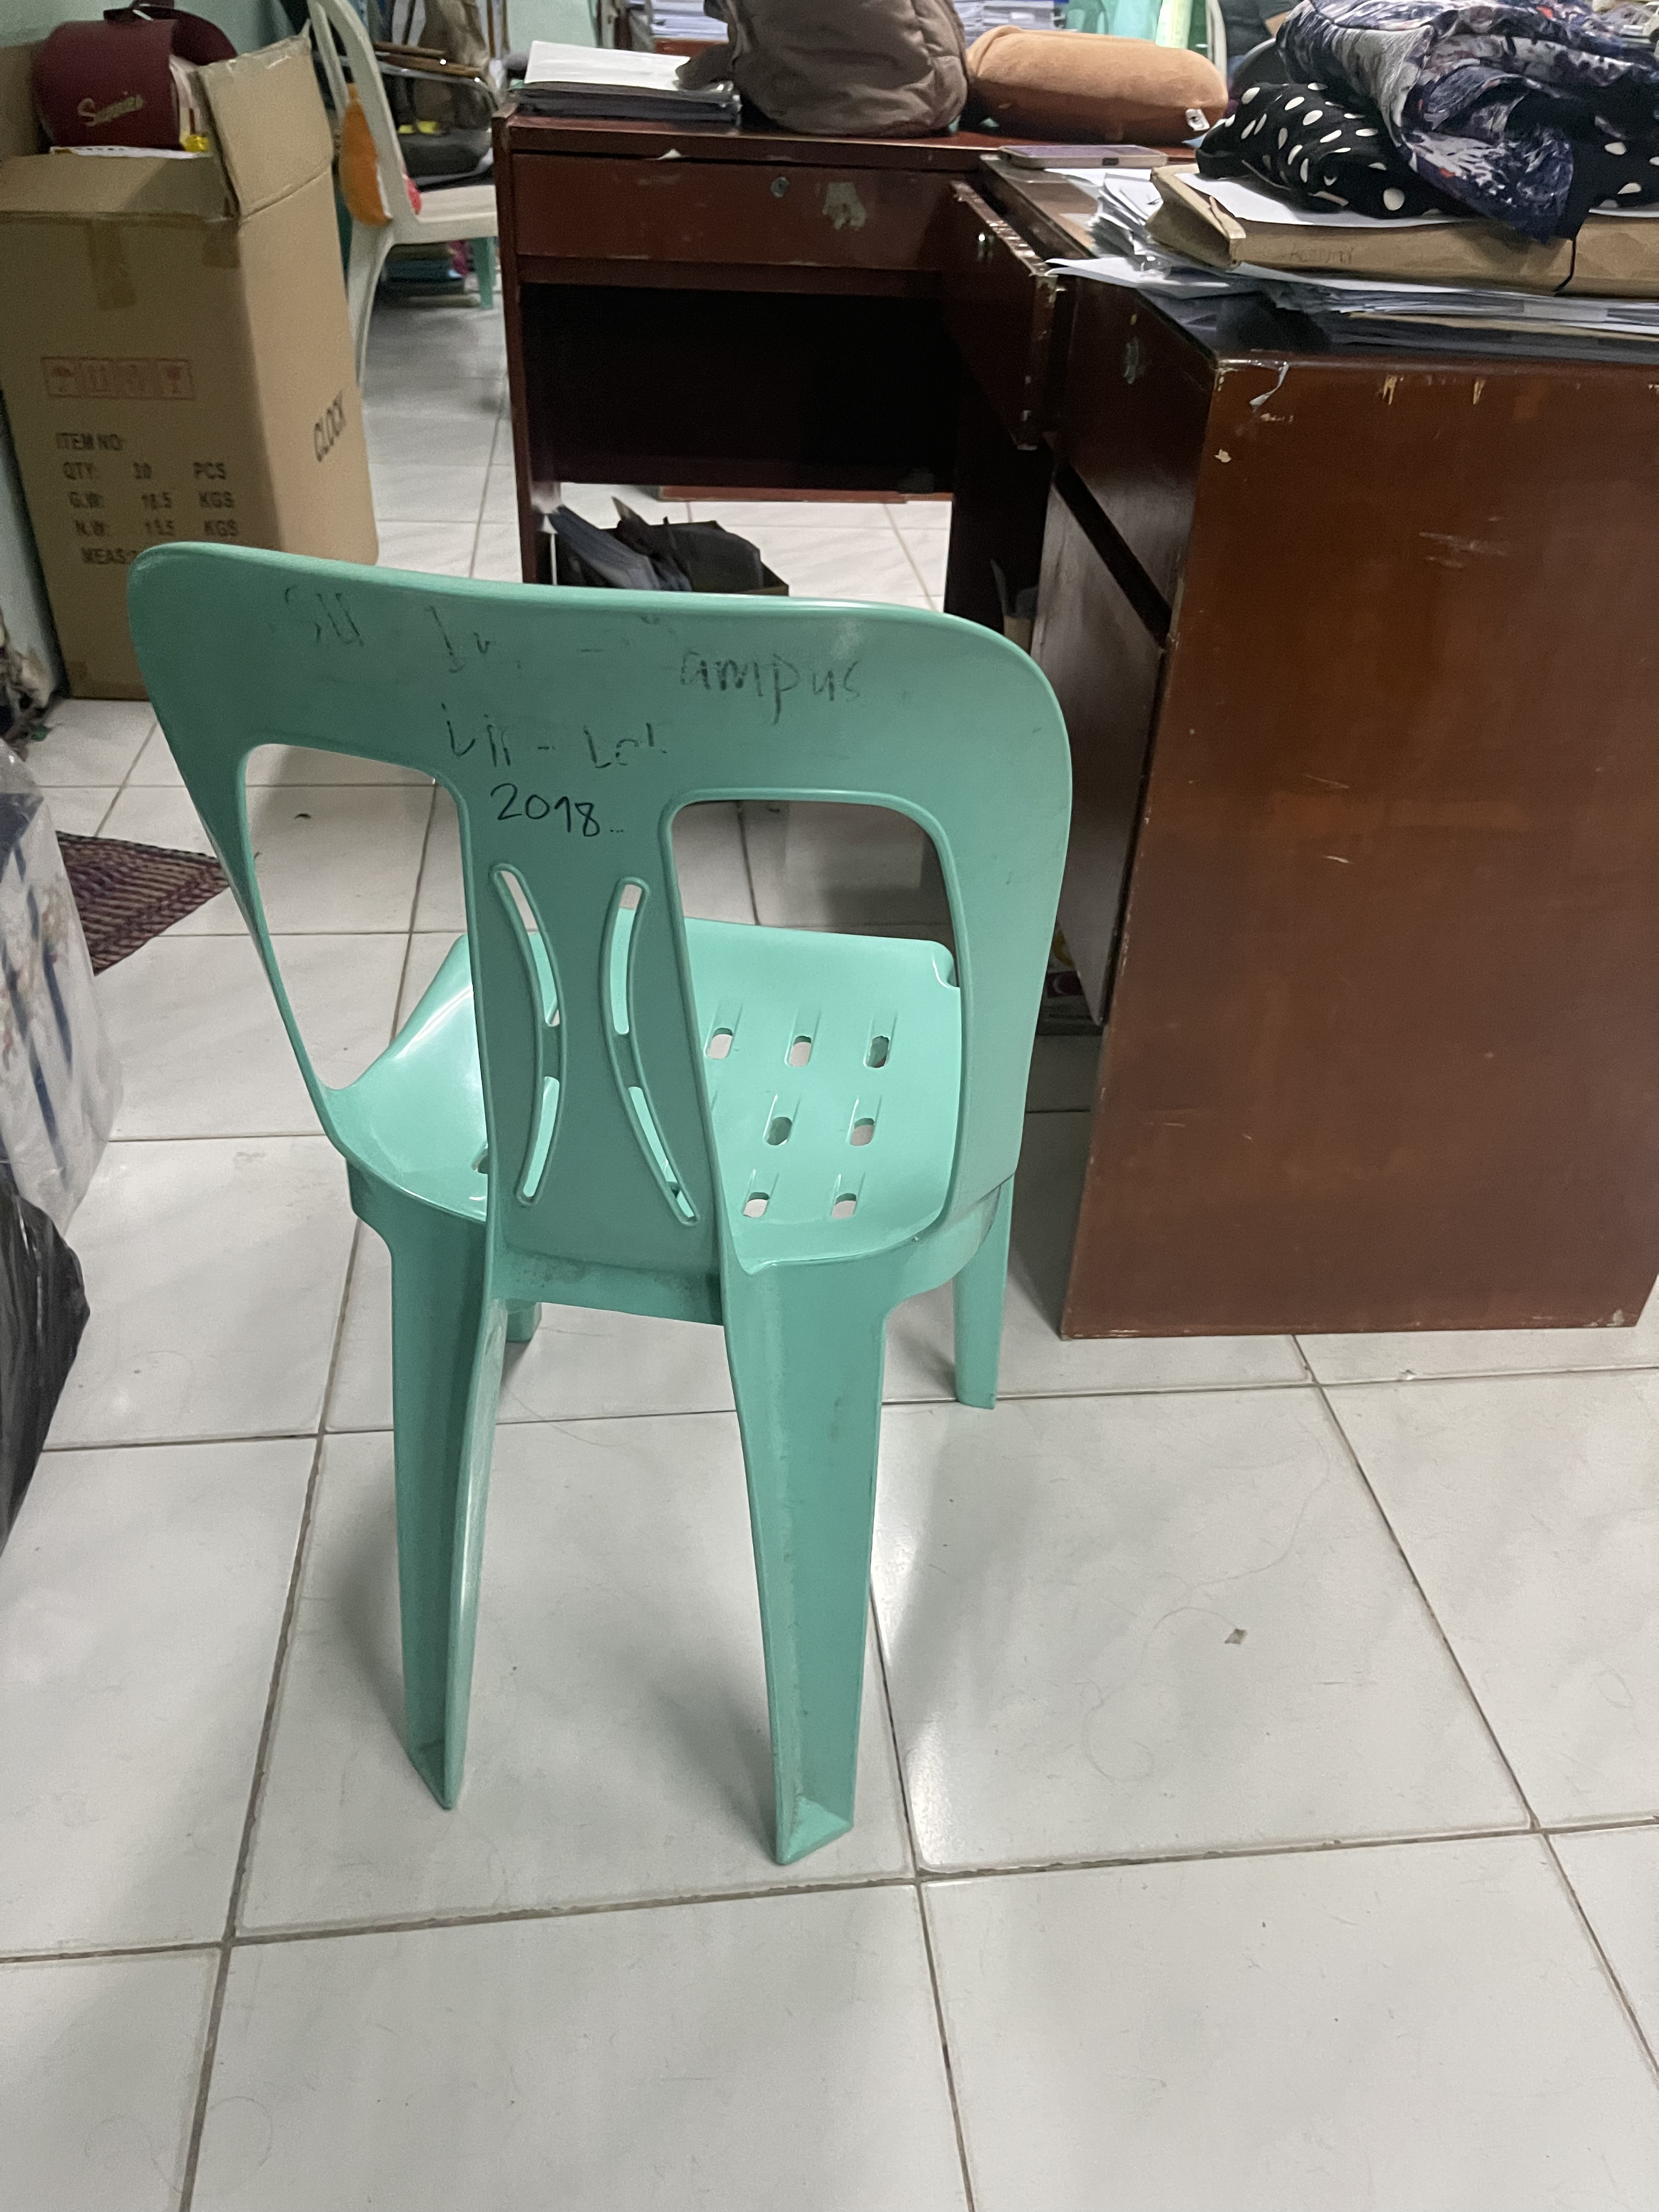chair2: (112, 526, 1077, 1874)
